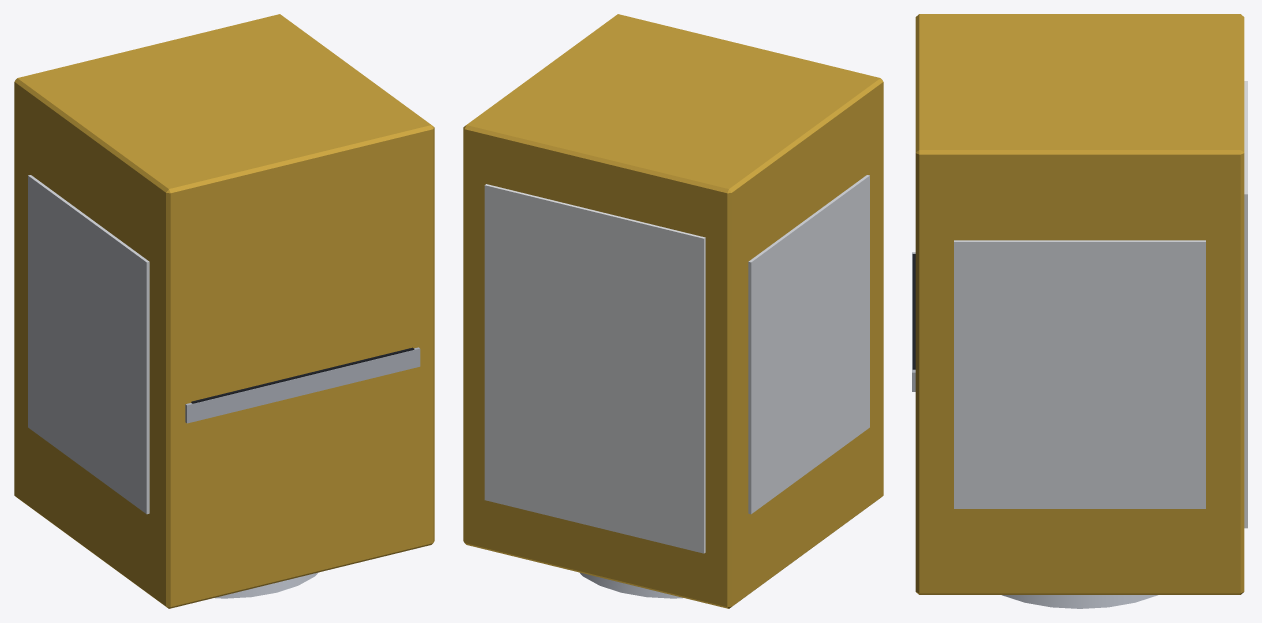
File: leostar3.glb
3 views of the same model, side by side, from view 1: azimuth 30°, elevation 25°; view 2: azimuth 150°, elevation 25°; view 3: azimuth 270°, elevation 25° (orthographic). The views are drawn at different scales.
Visible parts, largest first — view 1: leostar3_body, leostar3_silver_xn, leostar3_inst_shelf, leostar3_adapter, leostar3_inst_plate; view 2: leostar3_body, leostar3_rad, leostar3_silver_xn, leostar3_adapter; view 3: leostar3_body, leostar3_silver_xp, leostar3_rad, leostar3_adapter, leostar3_inst_plate.
Boxes of the visible parts, bbox=[...] form: leostar3_body: bbox=[14, 14, 434, 608]; leostar3_silver_xn: bbox=[28, 175, 149, 514]; leostar3_inst_shelf: bbox=[185, 347, 420, 423]; leostar3_adapter: bbox=[215, 572, 317, 598]; leostar3_inst_plate: bbox=[191, 347, 414, 403]; leostar3_body: bbox=[463, 14, 883, 608]; leostar3_rad: bbox=[484, 184, 705, 553]; leostar3_silver_xn: bbox=[748, 175, 869, 514]; leostar3_adapter: bbox=[580, 572, 682, 598]; leostar3_body: bbox=[915, 14, 1244, 594]; leostar3_silver_xp: bbox=[954, 240, 1205, 508]; leostar3_rad: bbox=[1244, 81, 1247, 528]; leostar3_adapter: bbox=[1002, 595, 1157, 608]; leostar3_inst_plate: bbox=[912, 254, 915, 369].
Bounding box in the file's own units: 1.9 × 3 × 1.9.
